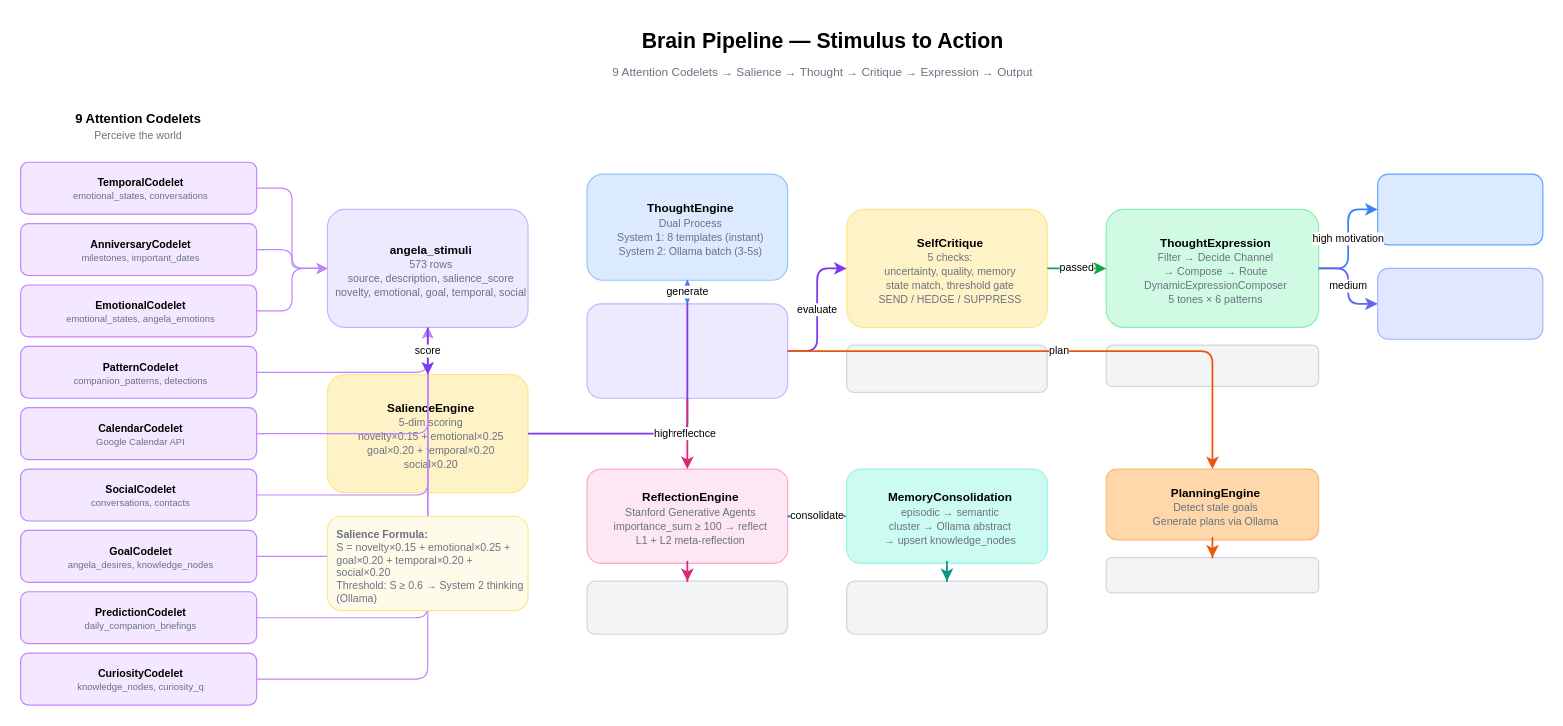
The diagram is 1563 pixels wide and 726 high, and some of its shapes have lost their labels. The box of each missing label's shape, as (x1, y1, x2, y2) in pixels:
angela_plans 3 · plan_steps 10: (1105, 556, 1319, 593)
angela_reflections 7 rows · depth, type, insight: (586, 580, 788, 634)
angela_thoughts 241 rows thought_type, content motivation_score (0-1): (586, 303, 788, 398)
chat_queue motivation ≥ 0.55 Shown at init.py: (1376, 267, 1543, 339)
expression_queue 117 · expression_log 245: (1105, 344, 1319, 386)
knowledge_nodes 10,242 rows · decay over time: (845, 580, 1047, 634)
Telegram motivation ≥ 0.7 CareInterventionService: (1376, 173, 1543, 245)
thought_critique_log 83 rows: (845, 344, 1047, 392)
